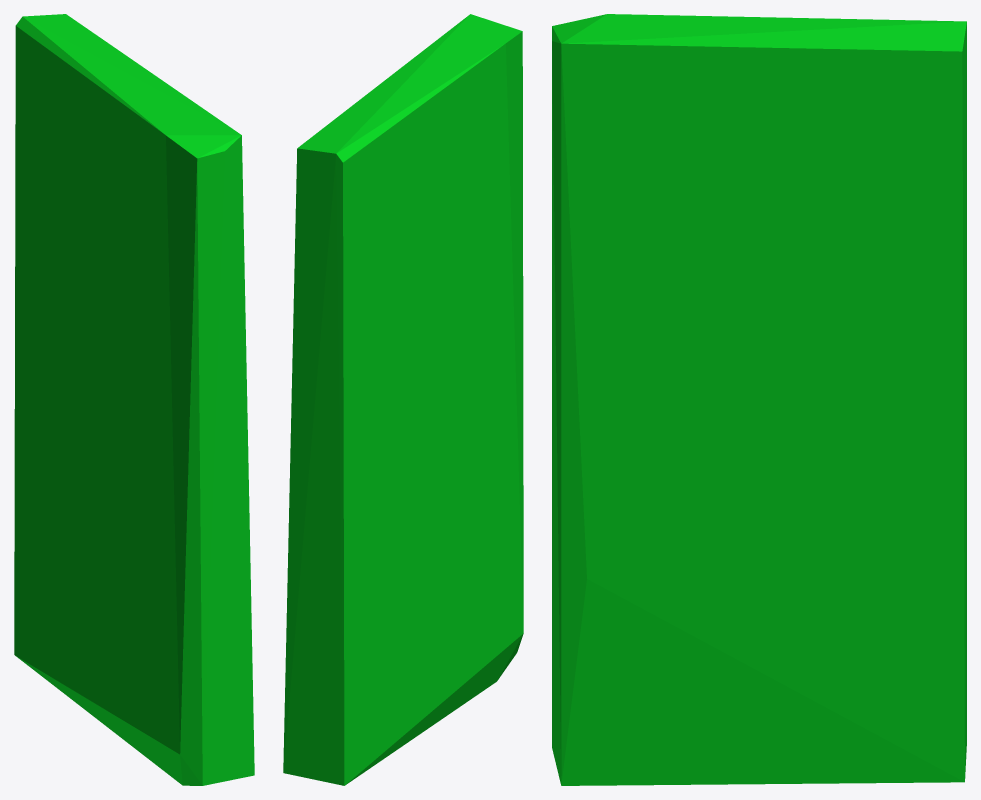
The model's file is pent_convex_piece_007.obj.
The picture shows the model from 3 angles, left to right: view 1: azimuth 30°, elevation 25°; view 2: azimuth 150°, elevation 25°; view 3: azimuth 270°, elevation 25°; orthographic projection. The views are drawn at different scales.
Bounding box in the file's own units: 0.00651 × 0.0573 × 0.0289.
